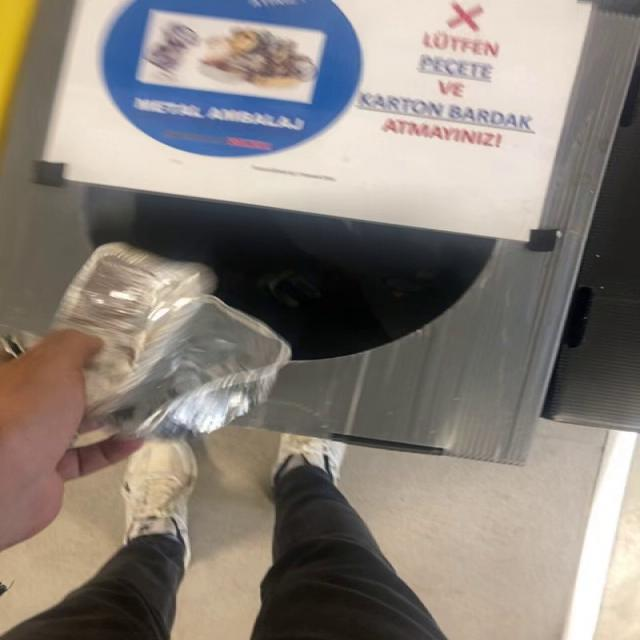metal: (51, 243, 291, 439)
